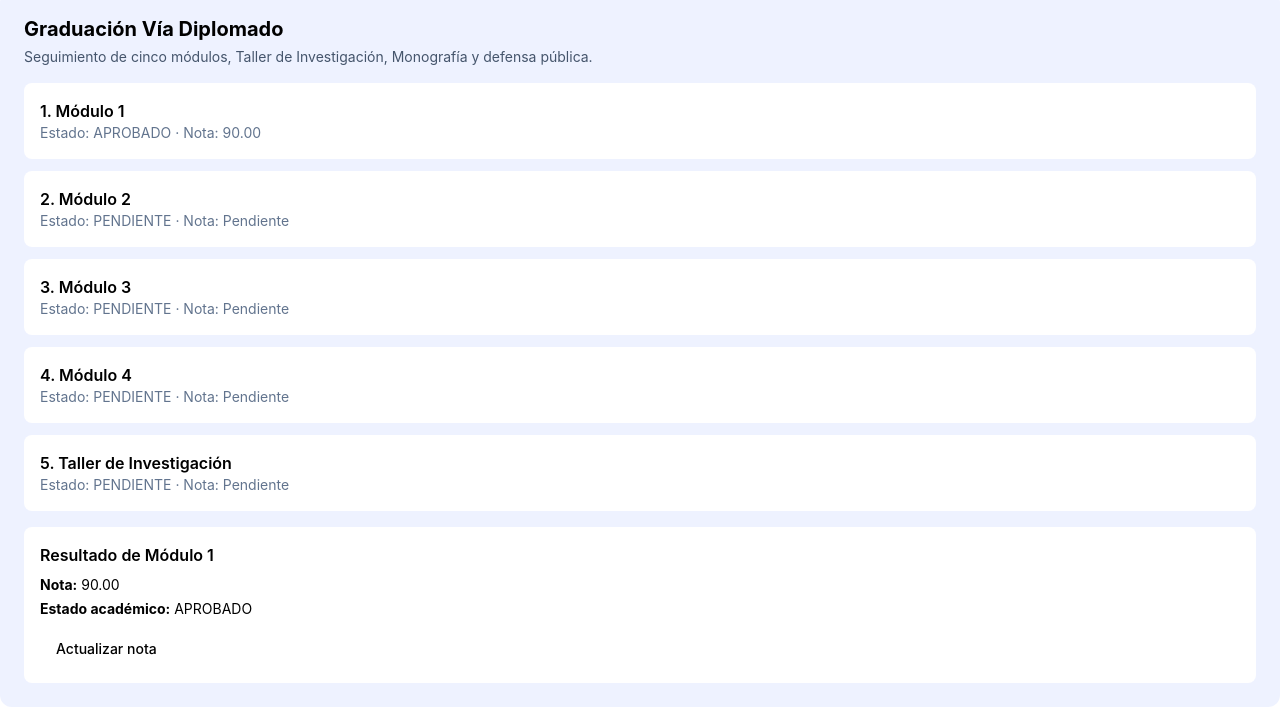
Scenario: Diplomado › presenta un resultado APROBADO y permite abrir y cancelar su actualización
Later steps or results of the test are not shown.
Expected: the text "90.00" is shown, [81, 576, 120, 593]
Expected: the text "APROBADO" is shown, [174, 600, 252, 617]
Click the button "Actualizar nota" at (106, 649), box [40, 631, 173, 667]
(page scrolled)
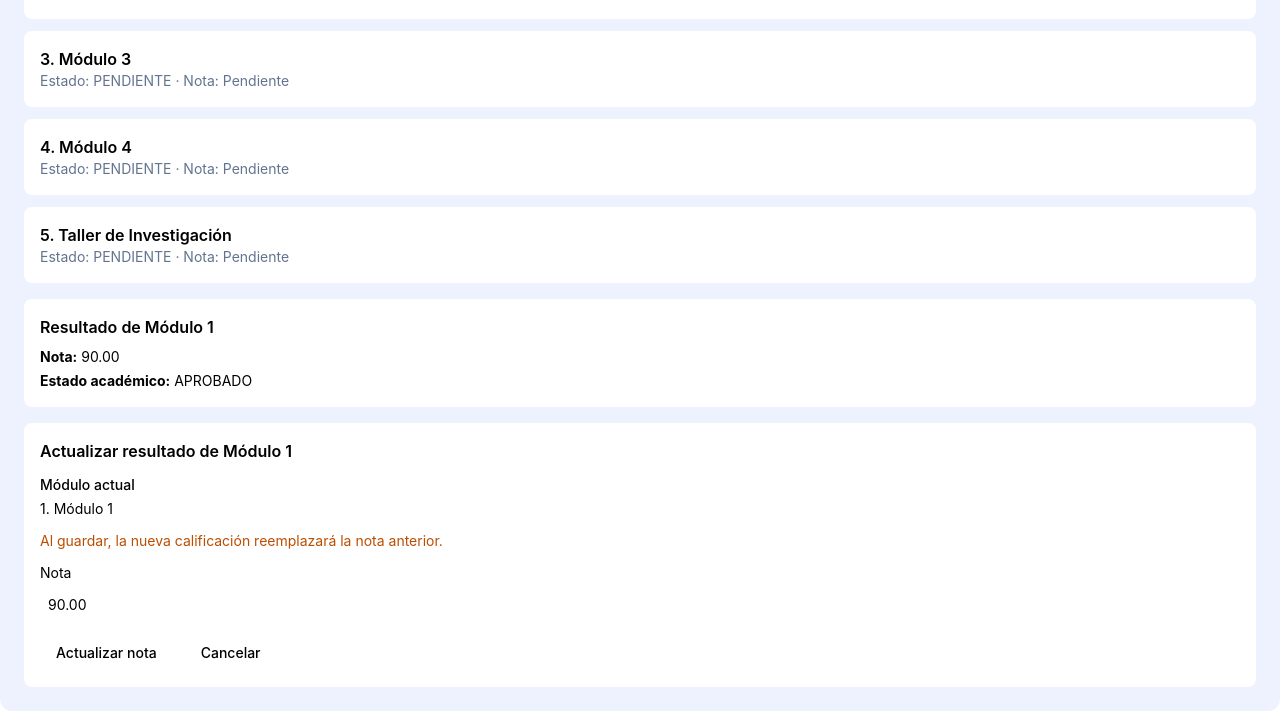
Expected: the number field labelled "Nota" holds "90", [40, 587, 1240, 623]
Expected: the text "Al guardar, la nueva calificación reemplazará la nota anterior." is shown, [40, 532, 443, 549]
